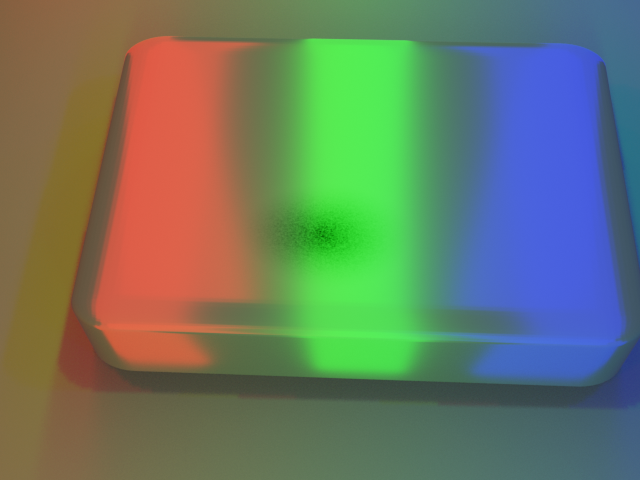stain: (184, 162, 440, 316)
